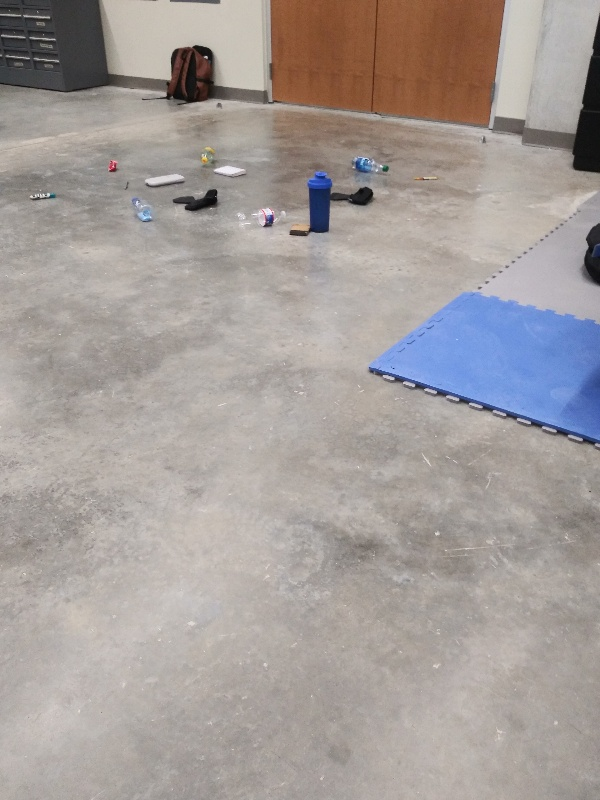bottle: (231, 205, 289, 230), (130, 192, 156, 225), (348, 155, 390, 174), (198, 144, 218, 166)
